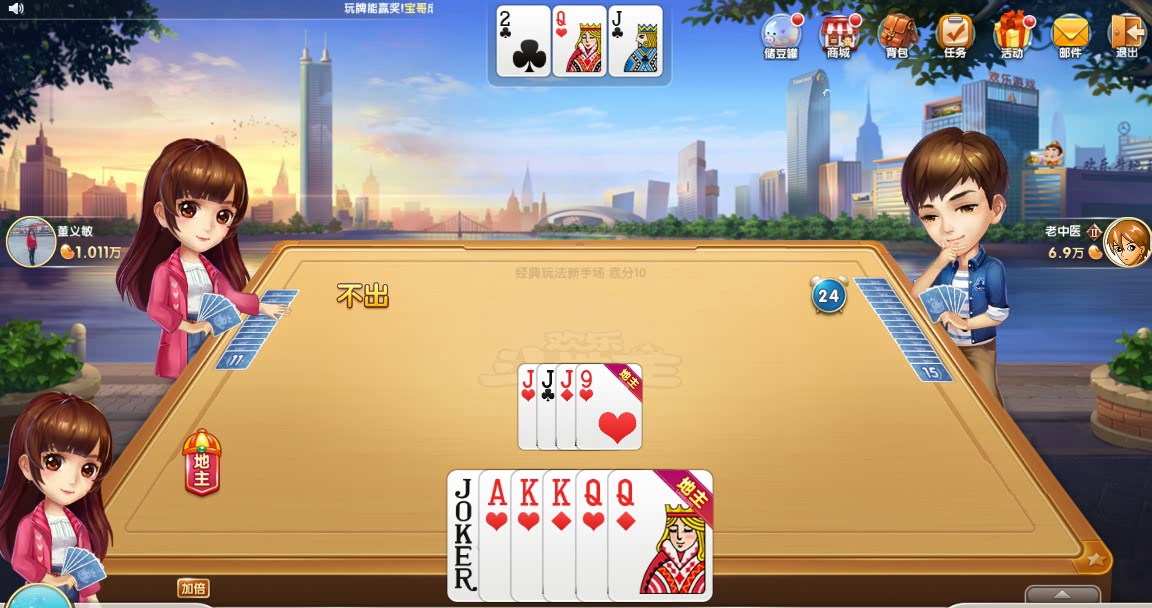11~1: (554, 362, 623, 451)
11~2: (536, 362, 605, 451), (607, 4, 662, 77)
11~3: (518, 362, 587, 451)
12~1: (606, 470, 712, 601)
12~3: (573, 470, 679, 601), (551, 4, 606, 77)
13~1: (538, 470, 644, 601)
13~3: (508, 470, 614, 601)
14~3: (474, 470, 580, 601)
15~2: (495, 4, 550, 77)
17~3: (446, 470, 552, 601)
9~3: (575, 362, 644, 451)
